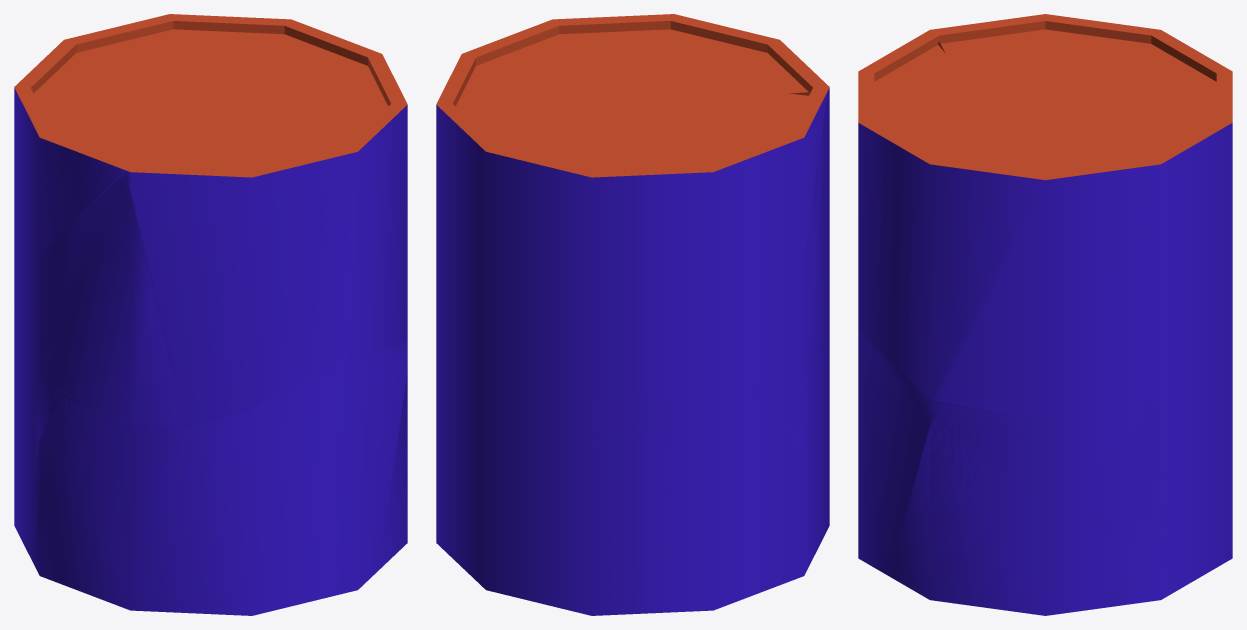
Rendered from P_ConserveM_Colored_Breakable.fbx.
The picture shows the model from 3 angles, left to right: view 1: azimuth 30°, elevation 25°; view 2: azimuth 150°, elevation 25°; view 3: azimuth 270°, elevation 25°; orthographic projection.
Parts seen in each view (by area): view 1: P_ConserveM_Colored_Breakable_cell.008, P_ConserveM_Colored_Breakable_cell.005, P_ConserveM_Colored_Breakable_cell.010, P_ConserveM_Colored_Breakable, P_ConserveM_Colored_Breakable_cell, P_ConserveM_Colored_Breakable_cell.001, P_ConserveM_Colored_Breakable_cell.004, P_ConserveM_Colored_Breakable_cell.009, P_ConserveM_Colored_Breakable_cell.002, P_ConserveM_Colored_Breakable_cell.006, P_ConserveM_Colored_Breakable_cell.011; view 2: P_ConserveM_Colored_Breakable, P_ConserveM_Colored_Breakable_cell.010, P_ConserveM_Colored_Breakable_cell, P_ConserveM_Colored_Breakable_cell.004, P_ConserveM_Colored_Breakable_cell.007, P_ConserveM_Colored_Breakable_cell.002, P_ConserveM_Colored_Breakable_cell.008, P_ConserveM_Colored_Breakable_cell.009, P_ConserveM_Colored_Breakable_cell.011; view 3: P_ConserveM_Colored_Breakable, P_ConserveM_Colored_Breakable_cell, P_ConserveM_Colored_Breakable_cell.006, P_ConserveM_Colored_Breakable_cell.005, P_ConserveM_Colored_Breakable_cell.004, P_ConserveM_Colored_Breakable_cell.010, P_ConserveM_Colored_Breakable_cell.007, P_ConserveM_Colored_Breakable_cell.002, P_ConserveM_Colored_Breakable_cell.008, P_ConserveM_Colored_Breakable_cell.009.
Part boxes in pixels (x1=…): P_ConserveM_Colored_Breakable_cell.008: x1=129, y1=128, x2=350, y2=424; P_ConserveM_Colored_Breakable_cell.005: x1=176, y1=341, x2=407, y2=615; P_ConserveM_Colored_Breakable_cell.010: x1=39, y1=87, x2=243, y2=431; P_ConserveM_Colored_Breakable: x1=14, y1=29, x2=407, y2=613; P_ConserveM_Colored_Breakable_cell: x1=232, y1=33, x2=407, y2=362; P_ConserveM_Colored_Breakable_cell.001: x1=33, y1=396, x2=199, y2=613; P_ConserveM_Colored_Breakable_cell.004: x1=54, y1=14, x2=317, y2=89; P_ConserveM_Colored_Breakable_cell.009: x1=29, y1=113, x2=124, y2=251; P_ConserveM_Colored_Breakable_cell.002: x1=14, y1=50, x2=167, y2=119; P_ConserveM_Colored_Breakable_cell.006: x1=379, y1=373, x2=407, y2=569; P_ConserveM_Colored_Breakable_cell.011: x1=14, y1=307, x2=61, y2=469; P_ConserveM_Colored_Breakable: x1=436, y1=14, x2=829, y2=615; P_ConserveM_Colored_Breakable_cell.010: x1=594, y1=83, x2=829, y2=376; P_ConserveM_Colored_Breakable_cell: x1=451, y1=18, x2=678, y2=103; P_ConserveM_Colored_Breakable_cell.004: x1=436, y1=89, x2=617, y2=177; P_ConserveM_Colored_Breakable_cell.007: x1=488, y1=387, x2=676, y2=615; P_ConserveM_Colored_Breakable_cell.002: x1=618, y1=129, x2=760, y2=322; P_ConserveM_Colored_Breakable_cell.008: x1=667, y1=21, x2=829, y2=96; P_ConserveM_Colored_Breakable_cell.009: x1=747, y1=91, x2=827, y2=250; P_ConserveM_Colored_Breakable_cell.011: x1=651, y1=375, x2=810, y2=608; P_ConserveM_Colored_Breakable: x1=858, y1=14, x2=1232, y2=615; P_ConserveM_Colored_Breakable_cell: x1=858, y1=109, x2=1125, y2=420; P_ConserveM_Colored_Breakable_cell.006: x1=889, y1=403, x2=1130, y2=615; P_ConserveM_Colored_Breakable_cell.005: x1=858, y1=331, x2=938, y2=575; P_ConserveM_Colored_Breakable_cell.004: x1=1065, y1=63, x2=1232, y2=396; P_ConserveM_Colored_Breakable_cell.010: x1=938, y1=31, x2=1101, y2=119; P_ConserveM_Colored_Breakable_cell.007: x1=1114, y1=401, x2=1232, y2=602; P_ConserveM_Colored_Breakable_cell.002: x1=1090, y1=21, x2=1216, y2=98; P_ConserveM_Colored_Breakable_cell.008: x1=872, y1=35, x2=981, y2=123; P_ConserveM_Colored_Breakable_cell.009: x1=937, y1=14, x2=1098, y2=41.
Size of the model in its own units: 52.35 by 64 by 49.79.
